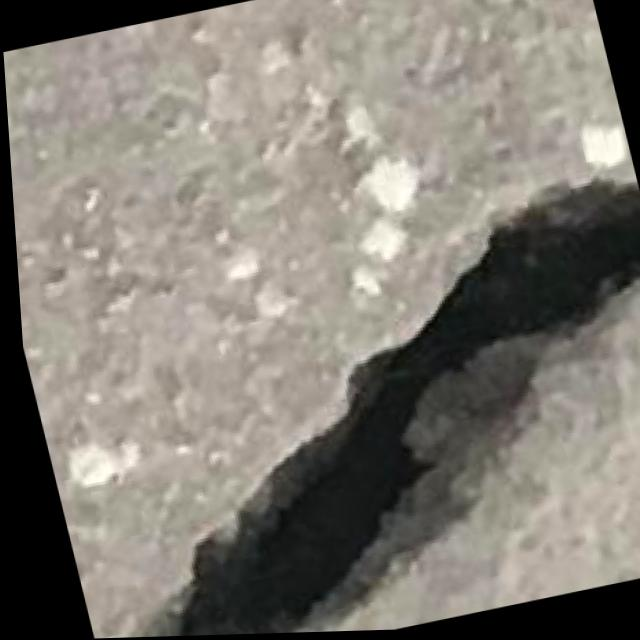Crack: (10, 176, 640, 640)
